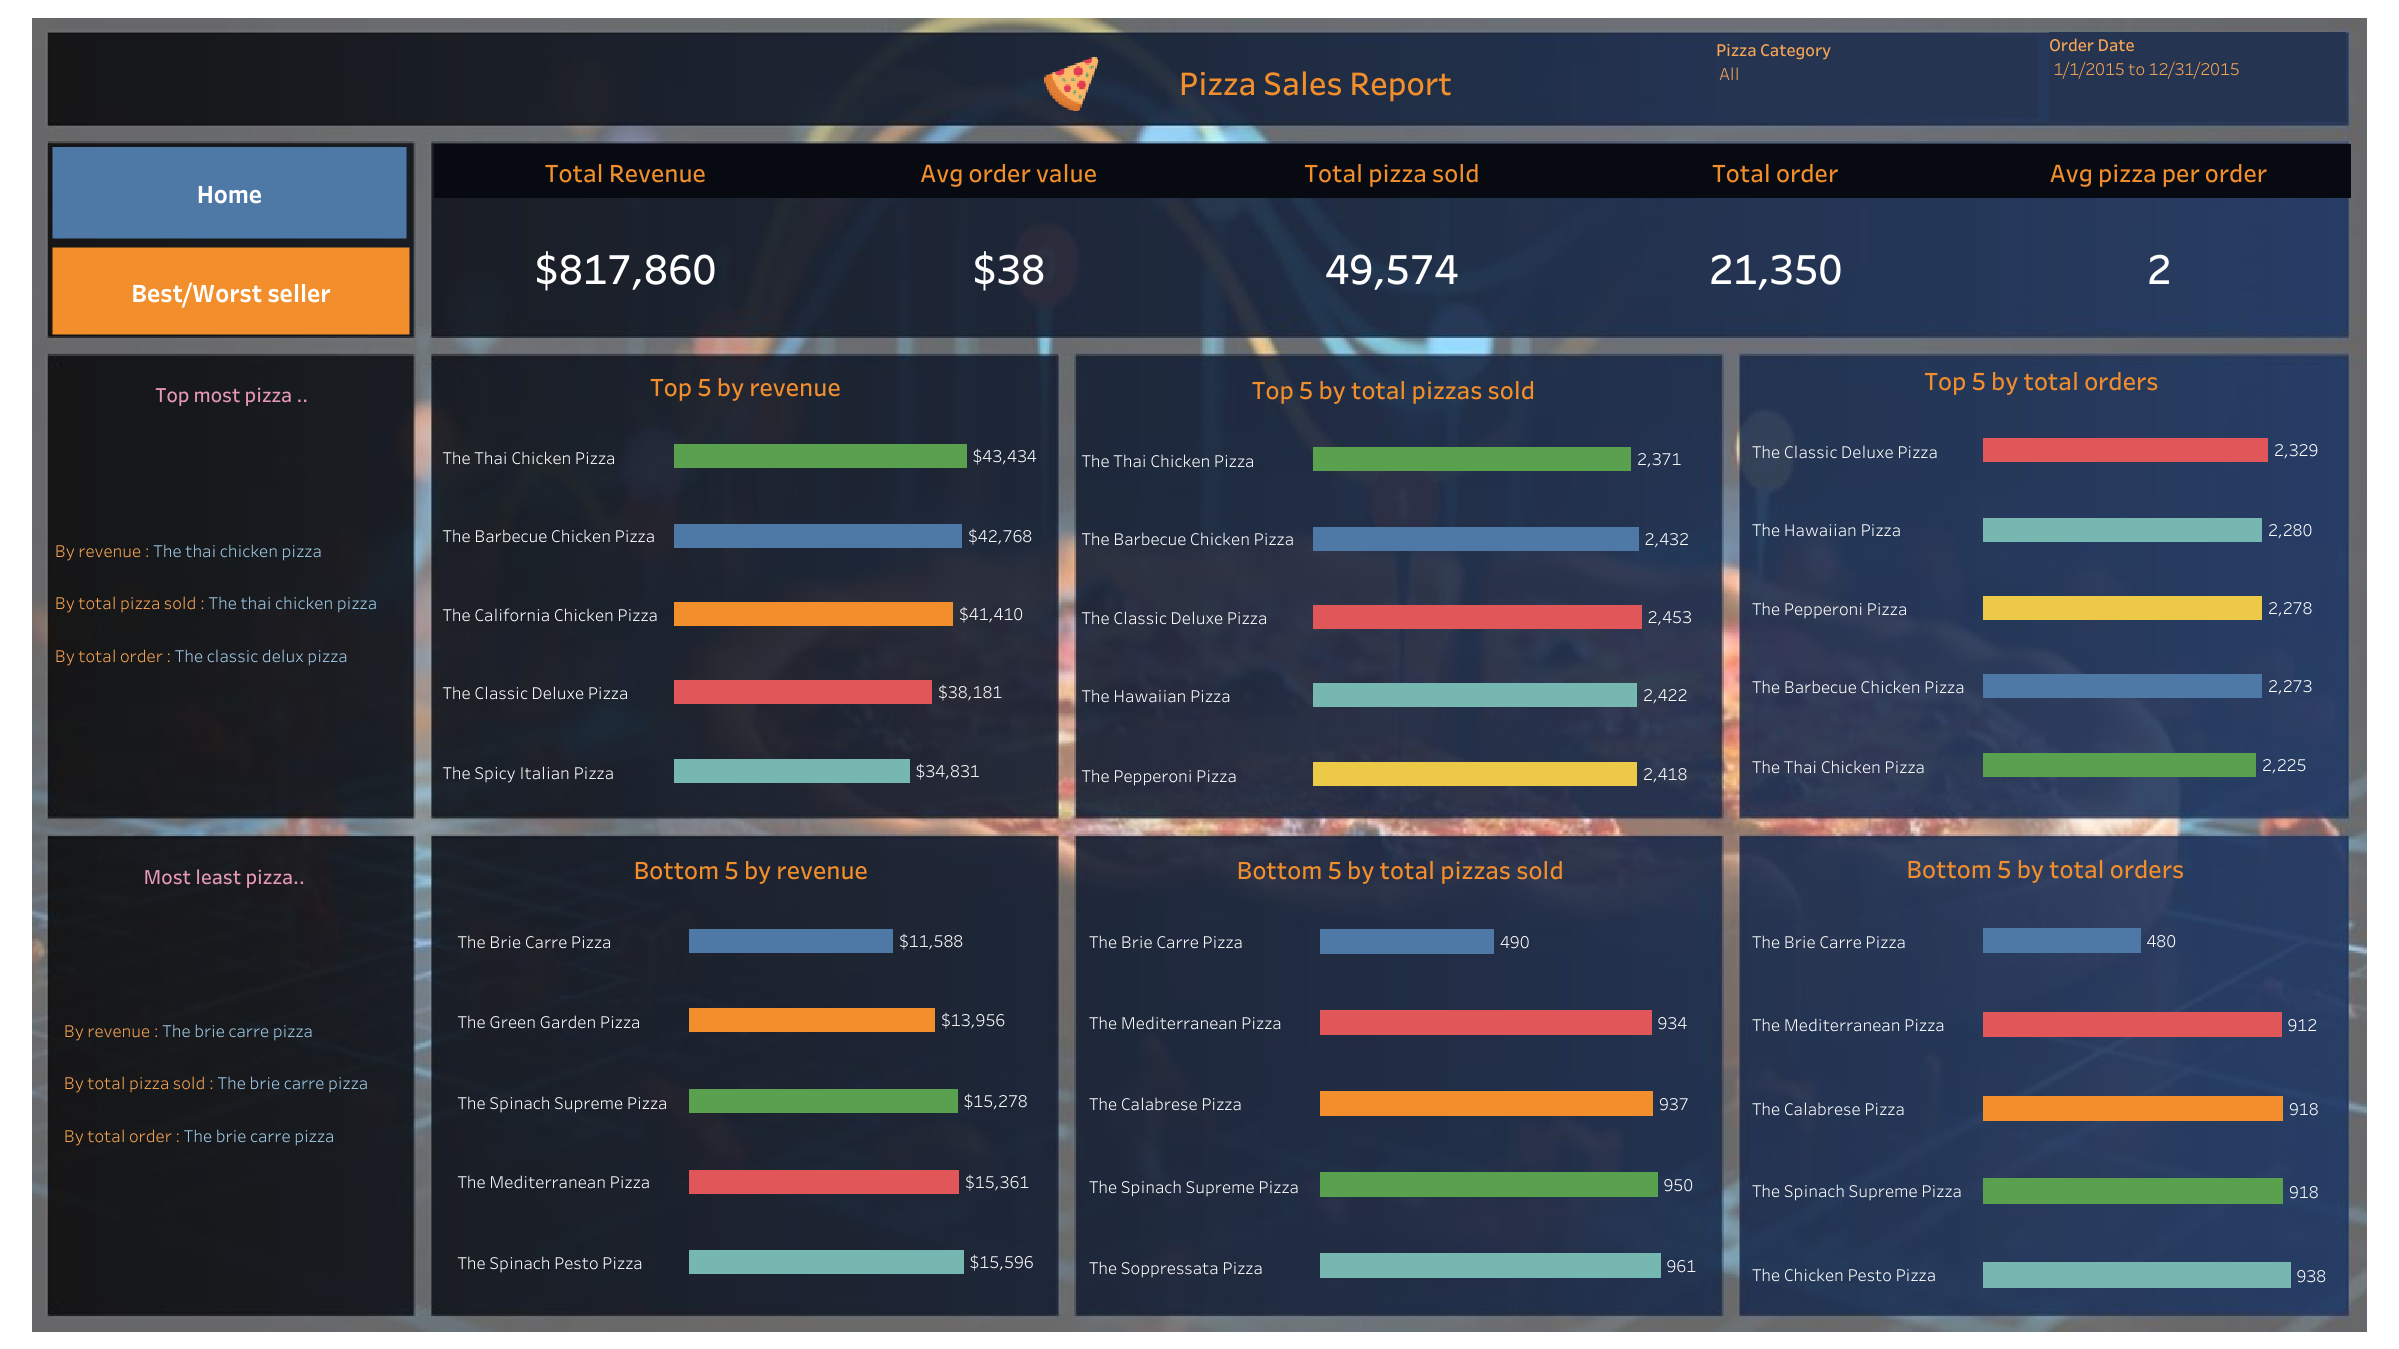

The dashboard page shown, as its layout file describes it:
{"tool":"tableau","page":{"name":"Best/Worst seller","canvas":[1600,900],"ordinal":0},"visuals":[{"type":"image","param":"Image/Pizza Tableau 2.jpg","box":[8,8,1584,884]},{"type":"filter","title":"kpi banner","param":"[federated.07snlip08zqwaf169htk60rmpi8r].[none:order_date:qk]","box":[1366,21,198,60]},{"type":"filter","title":"kpi banner","param":"[federated.07snlip08zqwaf169htk60rmpi8r].[none:pizza_category:nk]","box":[1144,24,215,55]},{"type":"text","box":[726,35,302,39]},{"type":"image","param":"Image/pizza-slice.png","box":[692,37,44,38]},{"type":"worksheet","title":"kpi banner","mark":"Automatic","box":[289,96,1278,129]},{"type":"dashboard-object","box":[35,98,236,61]},{"type":"dashboard-object","box":[35,165,238,58]},{"type":"worksheet","title":"Top 5 by total orders","mark":"Automatic","rows":["pizza_name"],"cols":["Calculation_1501669018482167809"],"box":[1162,236,398,300]},{"type":"worksheet","title":"Top 5 by revenue","mark":"Automatic","rows":["pizza_name"],"cols":["Calculation_1501669018481836032"],"box":[289,240,416,300]},{"type":"worksheet","title":"Top 5 by total pizzas sold","mark":"Automatic","rows":["pizza_name"],"cols":["Calculation_1501669018501001219"],"box":[715,242,428,300]},{"type":"text","box":[34,247,241,30]},{"type":"text","box":[34,271,241,261]},{"type":"worksheet","title":"Bottom 5 by total orders","mark":"Automatic","rows":["pizza_name"],"cols":["Calculation_1501669018482167809"],"box":[1162,561,403,316]},{"type":"worksheet","title":"Bottom 5 by revenue","mark":"Automatic","rows":["pizza_name"],"cols":["Calculation_1501669018481836032"],"box":[299,562,403,306]},{"type":"worksheet","title":"Bottom 5 by total pizzas sold","mark":"Automatic","rows":["pizza_name"],"cols":["Calculation_1501669018501001219"],"box":[720,562,427,309]},{"type":"text","box":[29,568,241,30]},{"type":"text","box":[40,591,241,261]}]}

Visuals, with their boxes in screenshot pixels (x1, y1, x2, y2), scaled from the page's 1600x900 canvas onto the 2399x1349 screenshot:
image: [x1=12, y1=12, x2=2387, y2=1337]
"kpi banner" filter: [x1=2048, y1=31, x2=2345, y2=121]
"kpi banner" filter: [x1=1715, y1=36, x2=2038, y2=118]
text: [x1=1089, y1=52, x2=1541, y2=111]
image: [x1=1038, y1=55, x2=1104, y2=112]
"kpi banner" worksheet: [x1=433, y1=144, x2=2350, y2=337]
dashboard-object: [x1=52, y1=147, x2=406, y2=238]
dashboard-object: [x1=52, y1=247, x2=409, y2=334]
"Top 5 by total orders" worksheet: [x1=1742, y1=354, x2=2339, y2=803]
"Top 5 by revenue" worksheet: [x1=433, y1=360, x2=1057, y2=809]
"Top 5 by total pizzas sold" worksheet: [x1=1072, y1=363, x2=1714, y2=812]
text: [x1=51, y1=370, x2=412, y2=415]
text: [x1=51, y1=406, x2=412, y2=797]
"Bottom 5 by total orders" worksheet: [x1=1742, y1=841, x2=2347, y2=1315]
"Bottom 5 by revenue" worksheet: [x1=448, y1=842, x2=1053, y2=1301]
"Bottom 5 by total pizzas sold" worksheet: [x1=1080, y1=842, x2=1720, y2=1306]
text: [x1=43, y1=851, x2=405, y2=896]
text: [x1=60, y1=886, x2=421, y2=1277]
